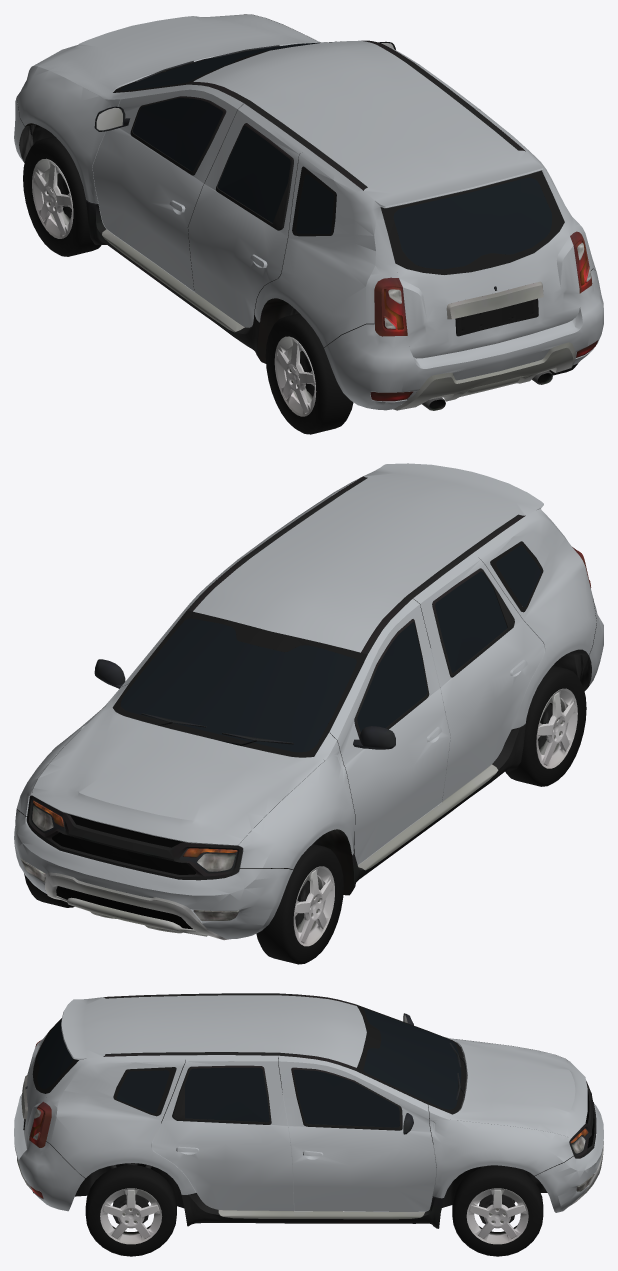
File: suv.glb
3 views of the same model, one above another, from view 1: azimuth 30°, elevation 25°; view 2: azimuth 150°, elevation 25°; view 3: azimuth 270°, elevation 25° (orthographic). The views are drawn at different scales.
Parts seen in each view (by area): view 1: carroceria_pintura, carroceria_vidrio, carroceria_textura, rueda_tras_izq_textura, rueda_del_izq_textura, carroceria_negro, carroceria_stop; view 2: carroceria_pintura, carroceria_vidrio, carroceria_textura, rueda_del_izq_textura, rueda_tras_izq_textura, carroceria_negro, carroceria_faro; view 3: carroceria_pintura, carroceria_vidrio, carroceria_textura, rueda_tras_der_textura, rueda_del_der_textura, carroceria_negro, carroceria_stop, carroceria_faro.
Boxes of the visible parts, <box> form: carroceria_pintura: <box>14,14,603,410</box>; carroceria_vidrio: <box>121,41,551,269</box>; carroceria_textura: <box>16,14,595,410</box>; rueda_tras_izq_textura: <box>265,313,353,434</box>; rueda_del_izq_textura: <box>23,136,101,256</box>; carroceria_negro: <box>113,43,564,326</box>; carroceria_stop: <box>370,231,598,401</box>; carroceria_pintura: <box>14,463,603,939</box>; carroceria_vidrio: <box>121,545,541,752</box>; carroceria_textura: <box>17,476,596,940</box>; rueda_del_izq_textura: <box>256,844,343,964</box>; rueda_tras_izq_textura: <box>505,665,586,786</box>; carroceria_negro: <box>112,529,543,853</box>; carroceria_faro: <box>20,800,239,920</box>; carroceria_pintura: <box>14,995,603,1212</box>; carroceria_vidrio: <box>37,1009,461,1127</box>; carroceria_textura: <box>17,993,603,1228</box>; rueda_tras_der_textura: <box>85,1165,176,1256</box>; rueda_del_der_textura: <box>452,1165,543,1256</box>; carroceria_negro: <box>32,993,466,1167</box>; carroceria_stop: <box>29,1040,51,1198</box>; carroceria_faro: <box>570,1128,594,1191</box>.
Size of the model in its own units: 1.95 by 1.56 by 4.4.
Materials: 6 (3 with a texture image).
